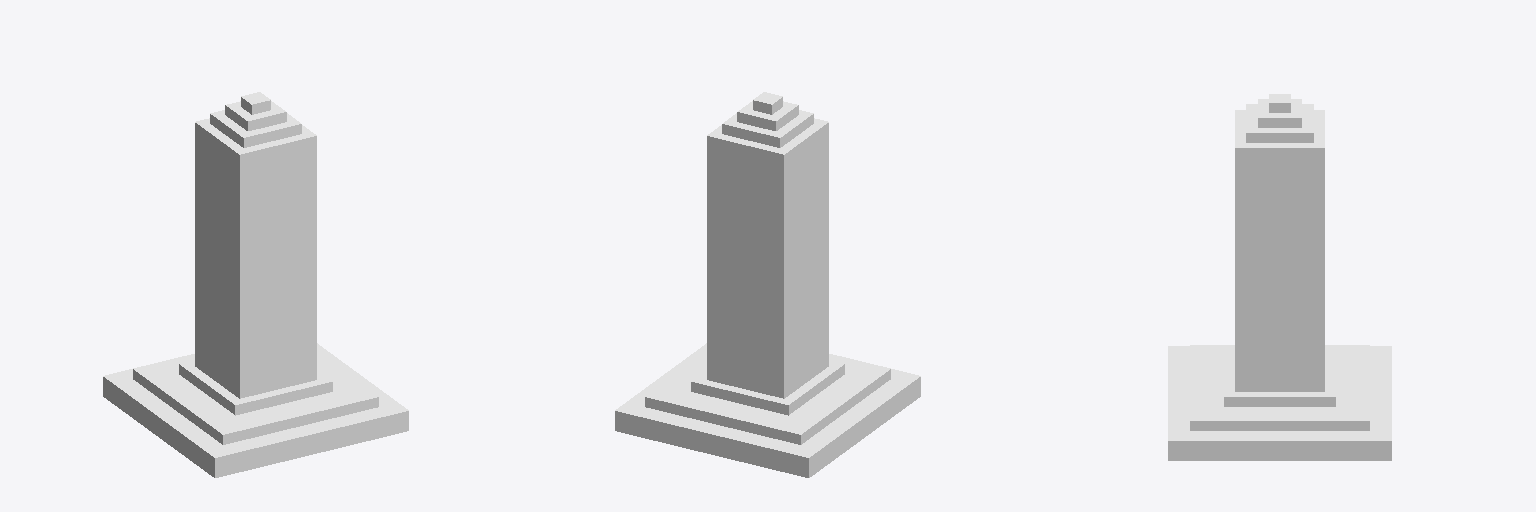
File: GiliusShrine.obj
The picture shows the model from 3 angles: view 1: azimuth 30°, elevation 25°; view 2: azimuth 150°, elevation 25°; view 3: azimuth 270°, elevation 25°; orthographic projection.
Visible parts, largest first — view 1: GiliusShrine; view 2: GiliusShrine; view 3: GiliusShrine.
Part boxes in pixels (x1,y1,x2,y2): GiliusShrine: (103, 92, 408, 477); GiliusShrine: (615, 92, 920, 477); GiliusShrine: (1168, 94, 1391, 460).
Size of the model in its own units: 20 by 31 by 20.